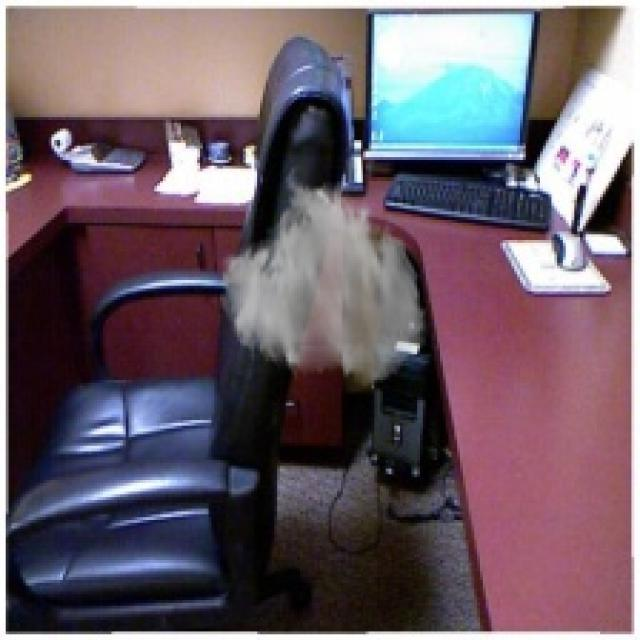Smoke: (217, 172, 429, 388)
